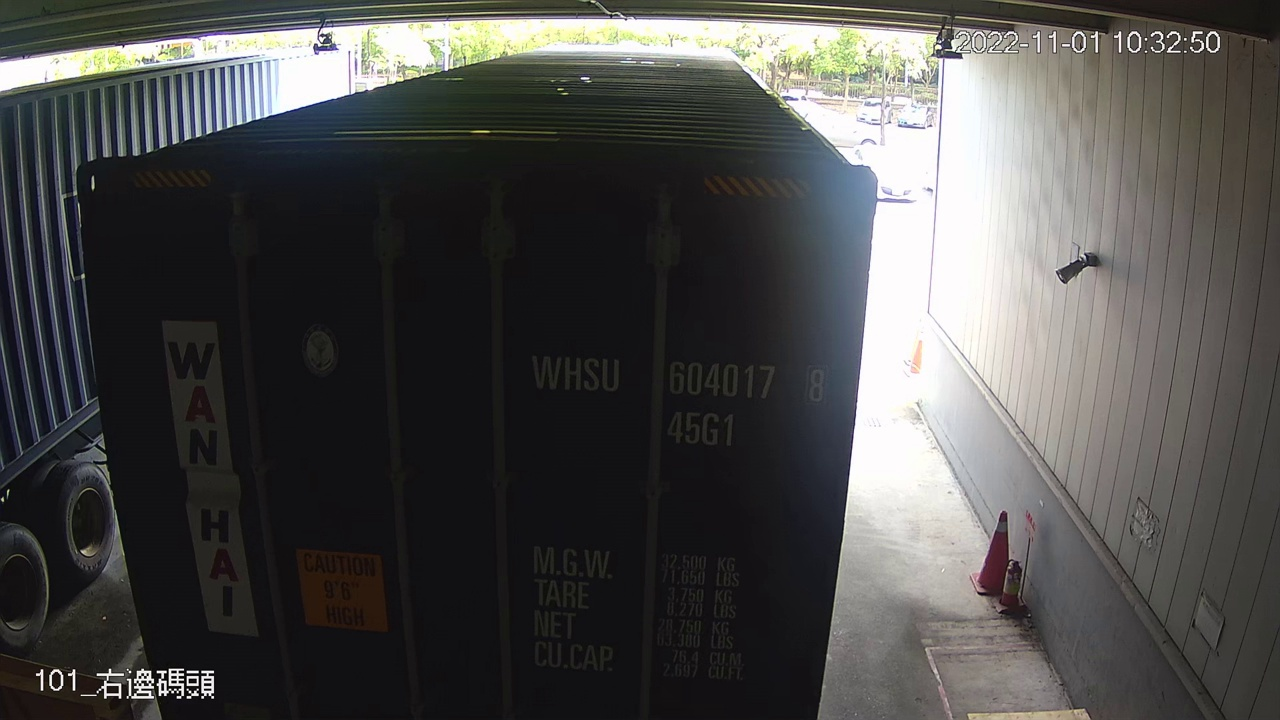container: (526, 345, 838, 454)
